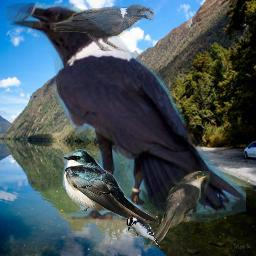Crow: (6, 3, 246, 222), (49, 3, 155, 52)
Cuckoo: (143, 171, 210, 249)
Swallow: (62, 149, 159, 225)
Woodpecker: (126, 216, 161, 249)
